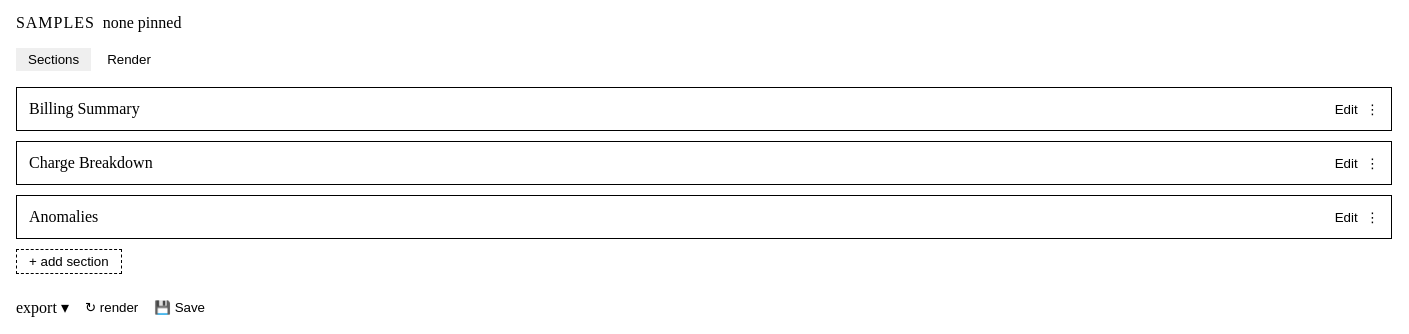
Test: SmartReportBuilder — 2026-05-29-smart-report-screen Phase 4 › FIX #1: a member Save PERSISTS the report-kind template (not a no-op)
Expected: the element with test id "report-builder-row-billing_summary" is shown, [16,87,1392,131]
Click the button with test id "report-builder-save": [180, 308] box [154,300,205,315]
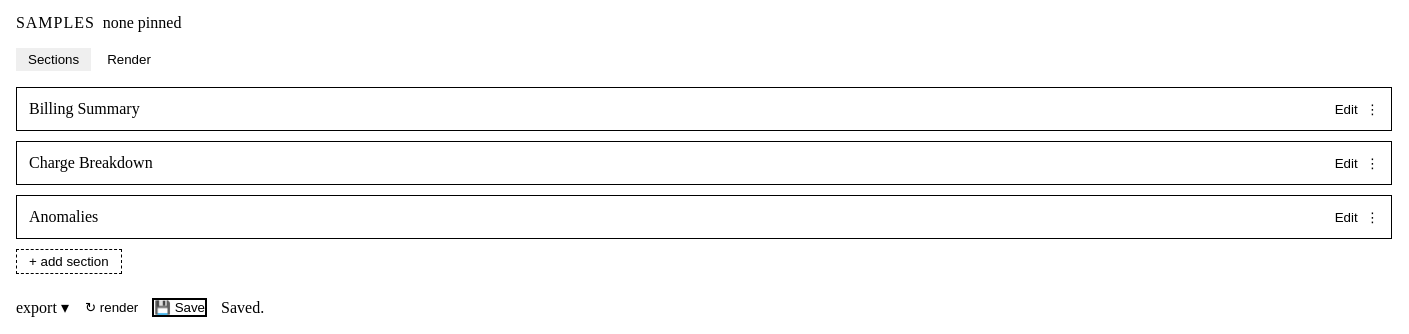
Expected: the text with test id "report-builder-save-status" shows "Saved", [221,298,264,316]
